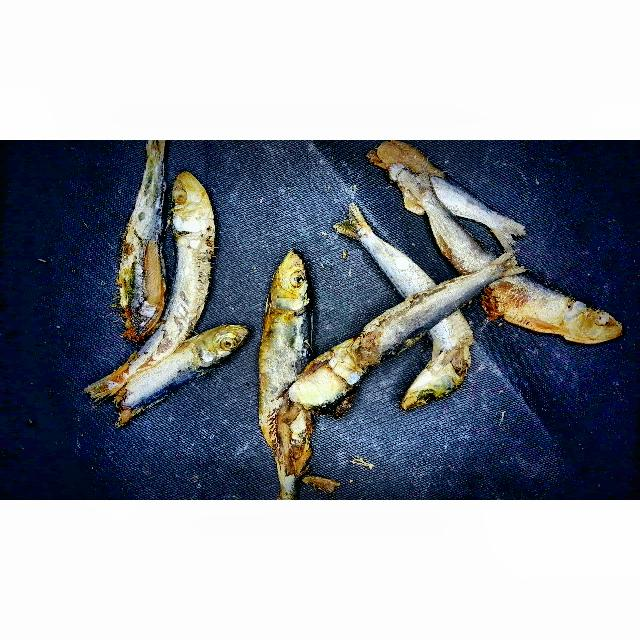Rejected_Body: (341, 273, 478, 373), (129, 224, 217, 371), (257, 310, 316, 494), (370, 142, 481, 226), (112, 338, 202, 429), (400, 327, 485, 413), (479, 278, 565, 339), (420, 221, 493, 275)
Rejected_Head: (548, 294, 633, 349)
Rejected_Tail: (80, 365, 132, 403)
